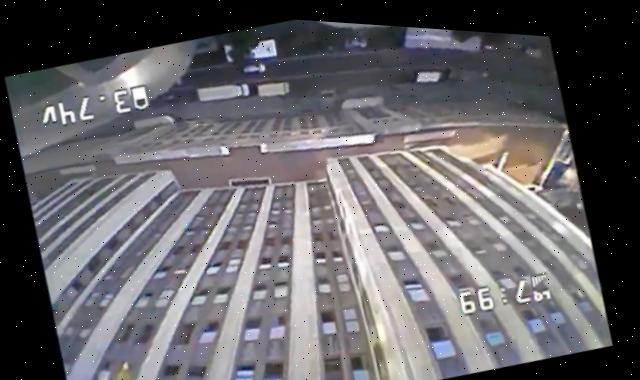truck: (193, 67, 253, 107), (408, 49, 460, 92), (251, 66, 296, 103)
